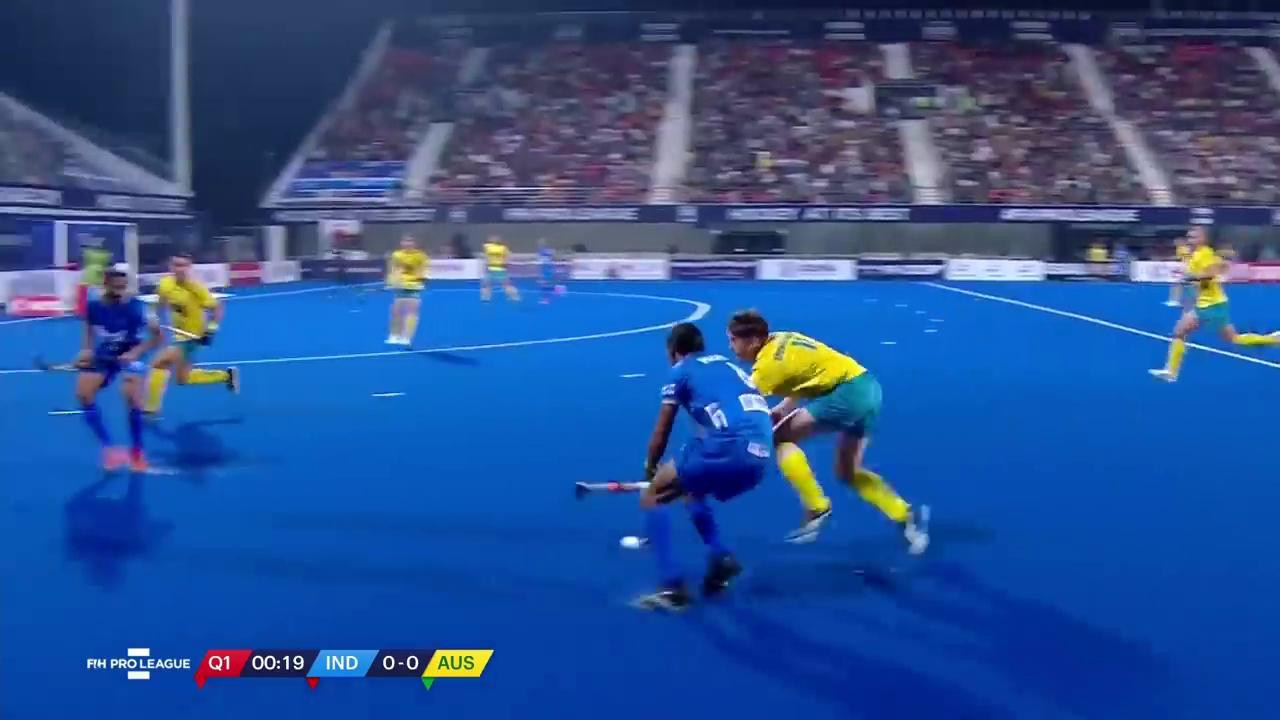ball: (604, 523, 653, 561)
